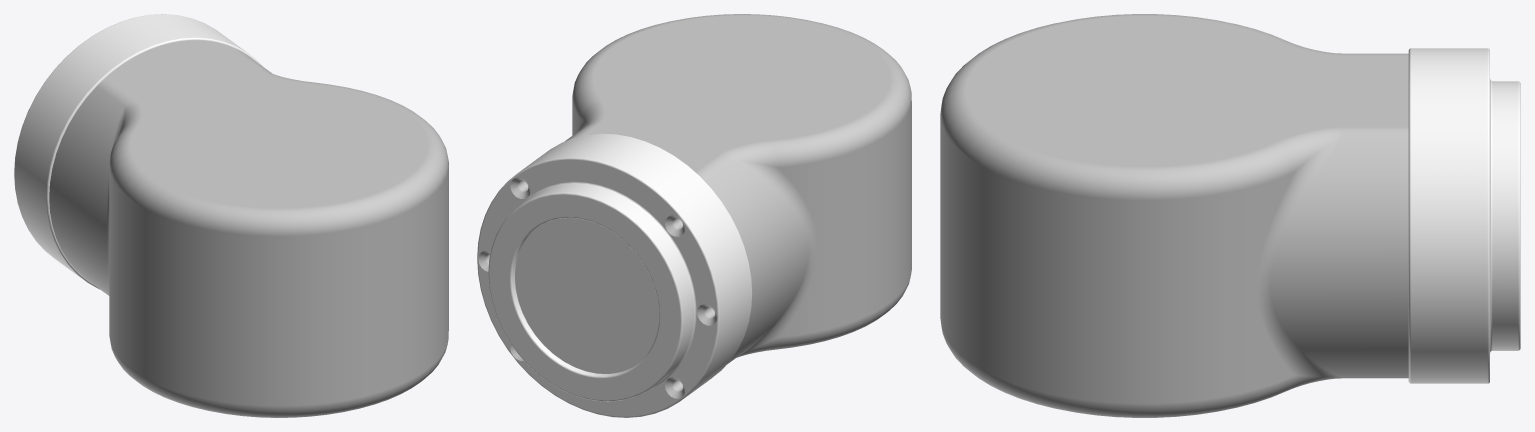
Rendered from Axis5.obj.
The picture shows the model from 3 angles, left to right: view 1: azimuth 30°, elevation 25°; view 2: azimuth 150°, elevation 25°; view 3: azimuth 270°, elevation 25°; orthographic projection. The views are drawn at different scales.
Visible parts, largest first — view 1: Axis5; view 2: Axis5; view 3: Axis5.
Boxes of the visible parts, x1,y1,x2,y2 form: Axis5: [14, 14, 448, 417]; Axis5: [477, 14, 911, 417]; Axis5: [940, 14, 1520, 417].
Bounding box in the file's own units: 79.93 × 66 × 114.
3 materials, 1 textured.
